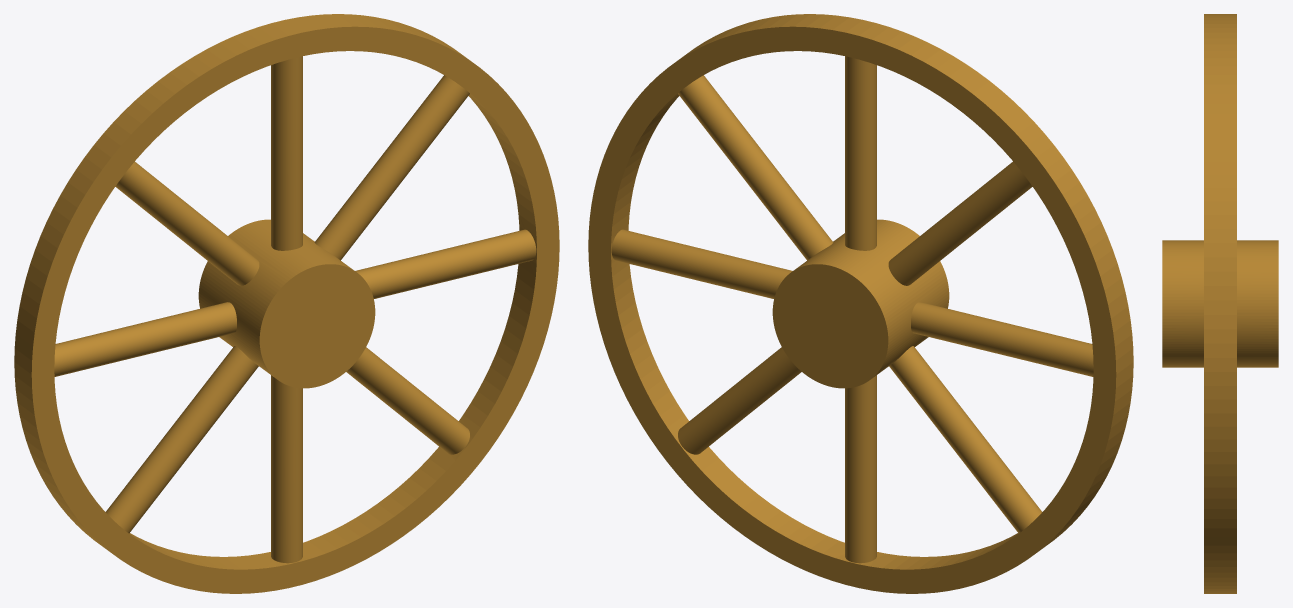
Rendered from asset.glb.
3 views of the same model, side by side, from view 1: azimuth 30°, elevation 25°; view 2: azimuth 150°, elevation 25°; view 3: azimuth 270°, elevation 25° (orthographic). The views are drawn at different scales.
Visible parts, largest first — view 1: part.stl; view 2: part.stl; view 3: part.stl.
Part boxes in pixels (bbox=[...]): part.stl: bbox=[14, 14, 559, 593]; part.stl: bbox=[588, 14, 1133, 593]; part.stl: bbox=[1162, 14, 1278, 593].
Bounding box in the file's own units: 0.42 × 0.4199 × 0.084.
